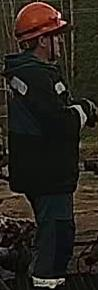gloves: (80, 97, 98, 125)
helmet: (14, 1, 67, 42)
vest: (3, 55, 81, 195)
